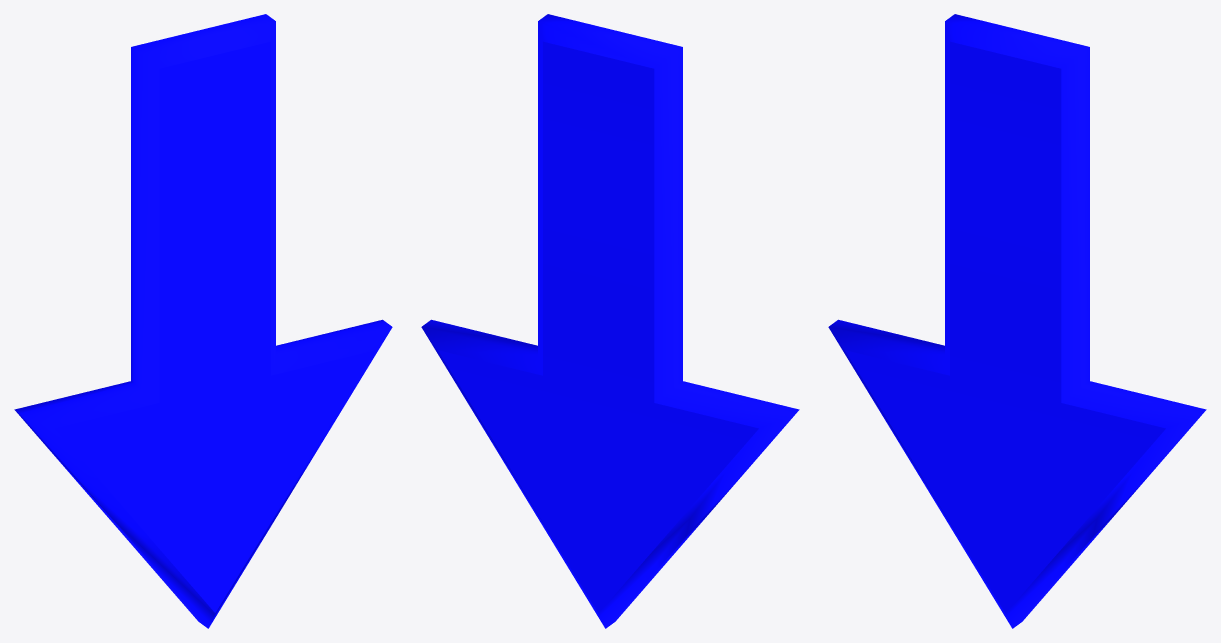
File: ee6c45ee-59f7-47fc-af31-81ede4d3c179.glb
3 renders of one model, left to right at view 1: azimuth 30°, elevation 25°; view 2: azimuth 150°, elevation 25°; view 3: azimuth 330°, elevation 25°, orthographic.
Parts seen in each view (by area): view 1: IndicatorArrowDownBlue; view 2: IndicatorArrowDownBlue; view 3: IndicatorArrowDownBlue.
Part boxes in pixels (x1=…): IndicatorArrowDownBlue: x1=14, y1=14, x2=392, y2=628; IndicatorArrowDownBlue: x1=421, y1=14, x2=799, y2=628; IndicatorArrowDownBlue: x1=828, y1=14, x2=1206, y2=628.
Bounding box in the file's own units: 0.45 × 0.69 × 0.05.
Materials: 1 (1 with a texture image).
